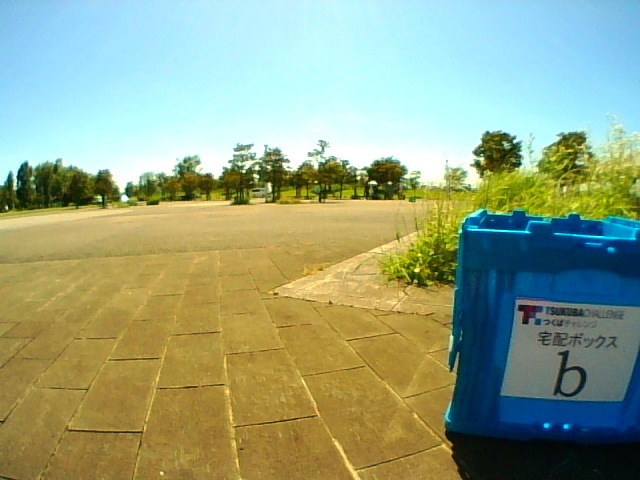blue_box: (474, 215, 640, 435)
tag_b: (518, 306, 623, 399)
